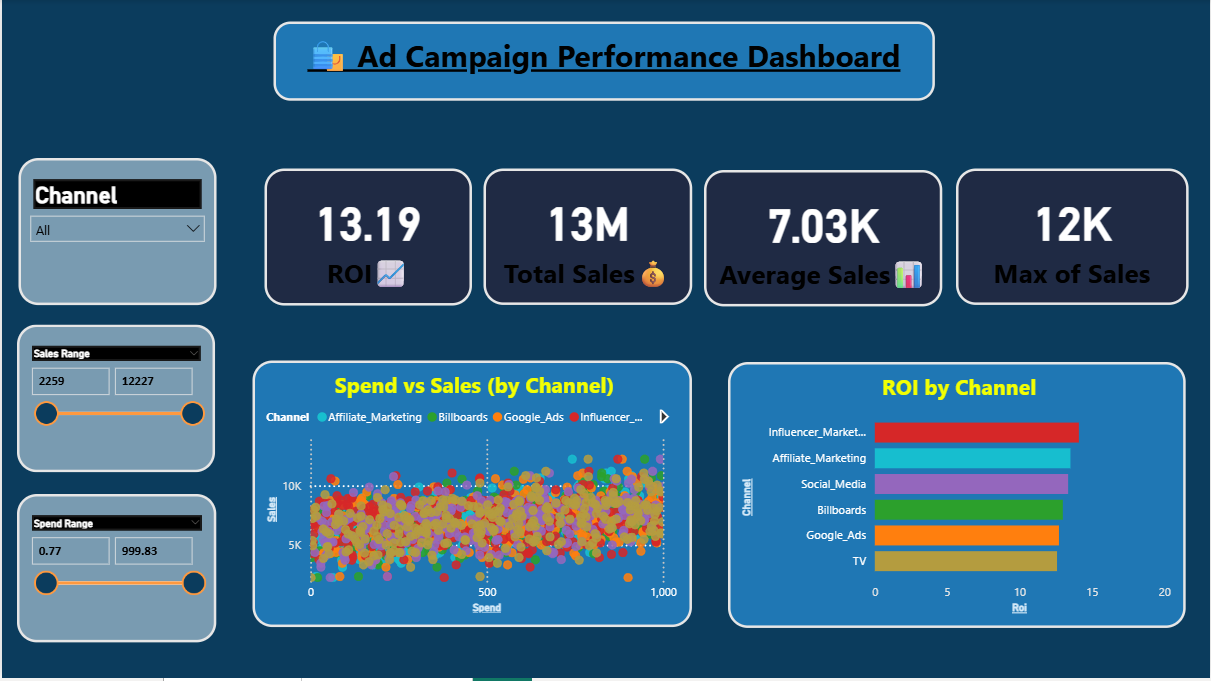

The dashboard page shown, as its layout file describes it:
{"tool":"powerbi","page":{"name":"Overview","canvas":[1280,720],"ordinal":0},"visuals":[{"type":"textbox","box":[287.9,23.9,701.5,84.3],"z":0},{"type":"card","fields":{"Values":["Advertising_Data.Total Sales"]},"box":[510.6,179.7,221.1,144.7],"z":1000},{"type":"card","fields":{"Values":["Advertising_Data.Average Sales"]},"box":[744.4,181.3,252.9,144.7],"z":2000},{"type":"card","fields":{"Values":["Max(Advertising_Data.Sales)"]},"box":[1011.6,179.7,246.5,144.7],"z":3000},{"type":"card","fields":{"Values":["Advertising_Data.ROI"]},"box":[278.3,180,220,145],"z":4000},{"type":"slicer","fields":{"Values":["Advertising_Data.Channel"]},"box":[17.5,168.6,210,155.9],"z":5000},{"type":"slicer","fields":{"Values":["Advertising_Data.Sales"]},"box":[16.7,345,210,156.7],"z":6000},{"type":"slicer","fields":{"Values":["Advertising_Data.Spend"]},"box":[15.9,524.9,211.6,157.5],"z":7000},{"type":"scatterChart","title":"Spend vs Sales (by Channel)","fields":{"X":["Advertising_Data.Spend"],"Y":["Advertising_Data.Sales"],"Series":["Advertising_Data.Channel"]},"box":[265.7,382.9,465.7,282.9],"z":8000},{"type":"clusteredBarChart","fields":{"Y":["Advertising_Data.ROI"],"Category":["Advertising_Data.Channel"]},"box":[770,385,485,281.7],"z":9000}]}

Visuals, with their boxes in screenshot pixels (x1, y1, x2, y2), scaled from the page's 1280x720 canvas onto the 1211x681 screenshot:
textbox: Rect(272, 23, 936, 102)
card - Advertising_Data.Total Sales: Rect(483, 170, 692, 307)
card - Advertising_Data.Average Sales: Rect(704, 171, 944, 308)
card - Max(Advertising_Data.Sales): Rect(957, 170, 1190, 307)
card - Advertising_Data.ROI: Rect(263, 170, 471, 307)
slicer - Advertising_Data.Channel: Rect(17, 159, 215, 307)
slicer - Advertising_Data.Sales: Rect(16, 326, 214, 475)
slicer - Advertising_Data.Spend: Rect(15, 496, 215, 645)
"Spend vs Sales (by Channel)" scatterChart: Rect(251, 362, 692, 630)
clusteredBarChart - Advertising_Data.ROI x Advertising_Data.Channel: Rect(728, 364, 1187, 631)
